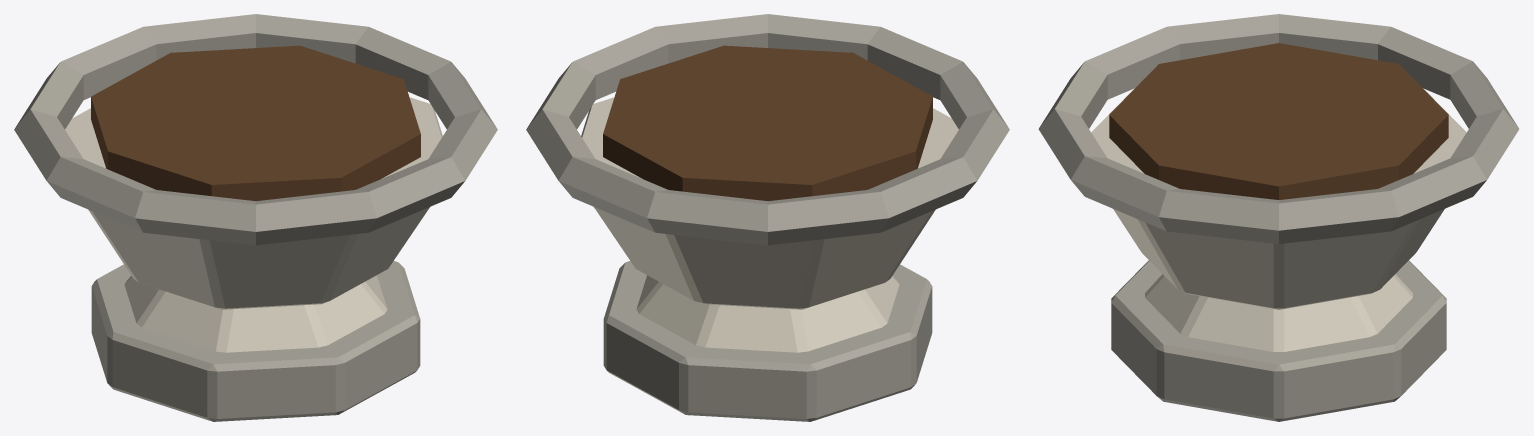
File: runtime.glb
The picture shows the model from 3 angles, left to right: view 1: azimuth 30°, elevation 25°; view 2: azimuth 150°, elevation 25°; view 3: azimuth 270°, elevation 25°; orthographic projection.
Parts seen in each view (by area): view 1: eiffel-historic-urn-v06_nocol; view 2: eiffel-historic-urn-v06_nocol; view 3: eiffel-historic-urn-v06_nocol.
Part boxes in pixels (x1,y1,x2,y2): eiffel-historic-urn-v06_nocol: (14,14,497,421); eiffel-historic-urn-v06_nocol: (526,14,1009,421); eiffel-historic-urn-v06_nocol: (1038,14,1519,421).
Size of the model in its own units: 1.52 by 0.8509 by 1.52.
